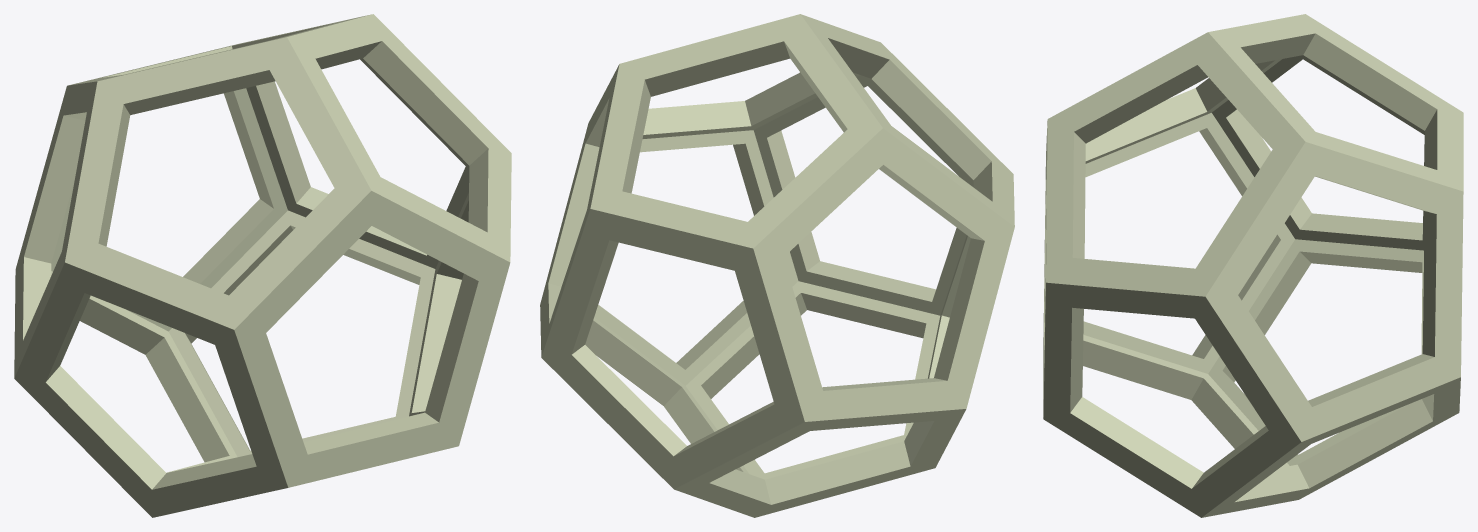
File: aPerson.dae
3 views of the same model, side by side, from view 1: azimuth 30°, elevation 25°; view 2: azimuth 150°, elevation 25°; view 3: azimuth 270°, elevation 25° (orthographic). The views are drawn at different scales.
Parts seen in each view (by area): view 1: unnamed_object1-0; view 2: unnamed_object1-0; view 3: unnamed_object1-0.
Part boxes in pixels (x1,y1,x2,y2): unnamed_object1-0: (14, 14, 511, 517); unnamed_object1-0: (540, 14, 1014, 517); unnamed_object1-0: (1043, 14, 1463, 517).
Size of the model in its own units: 2.62 by 2.76 by 2.25.
